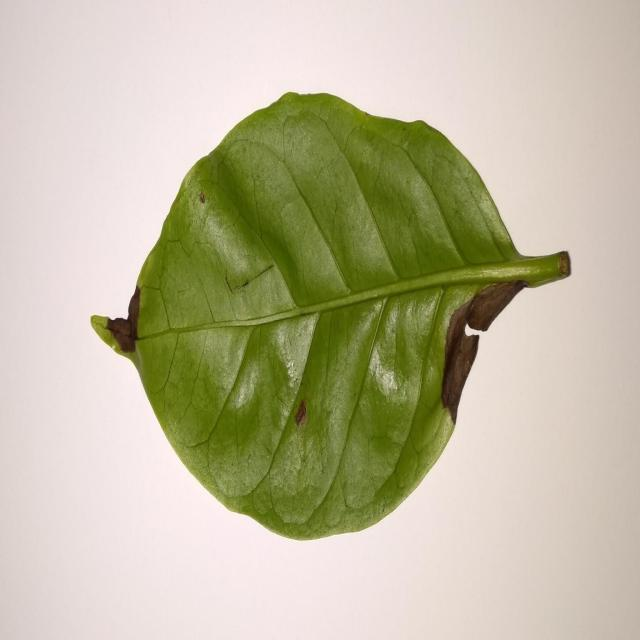Enfermedad-Antracnosis: (89, 92, 572, 544)
